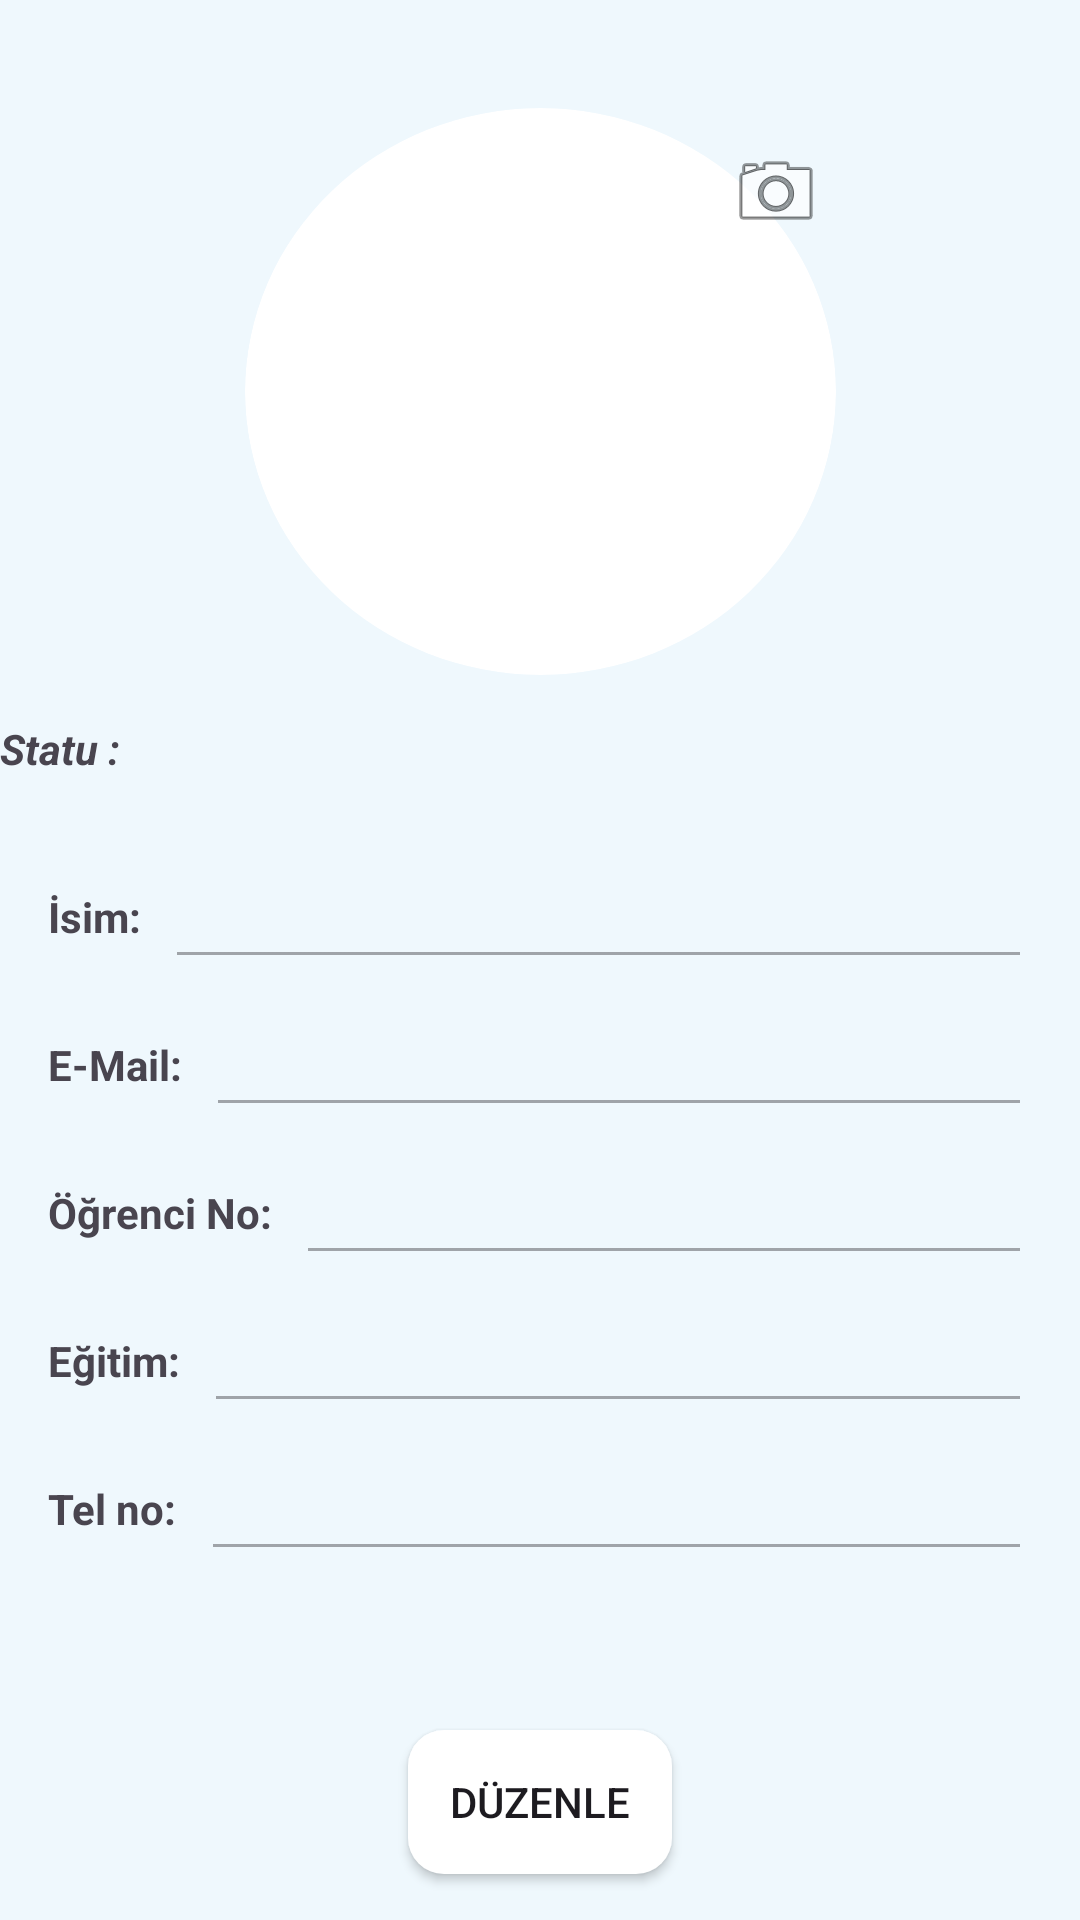

Locate icon controls on the screen. Image size 1080px×1920px, boxes as [x1=x1, y1=y1, x2=x2, y2=y2].
camera: [x1=716, y1=161, x2=813, y2=252]
